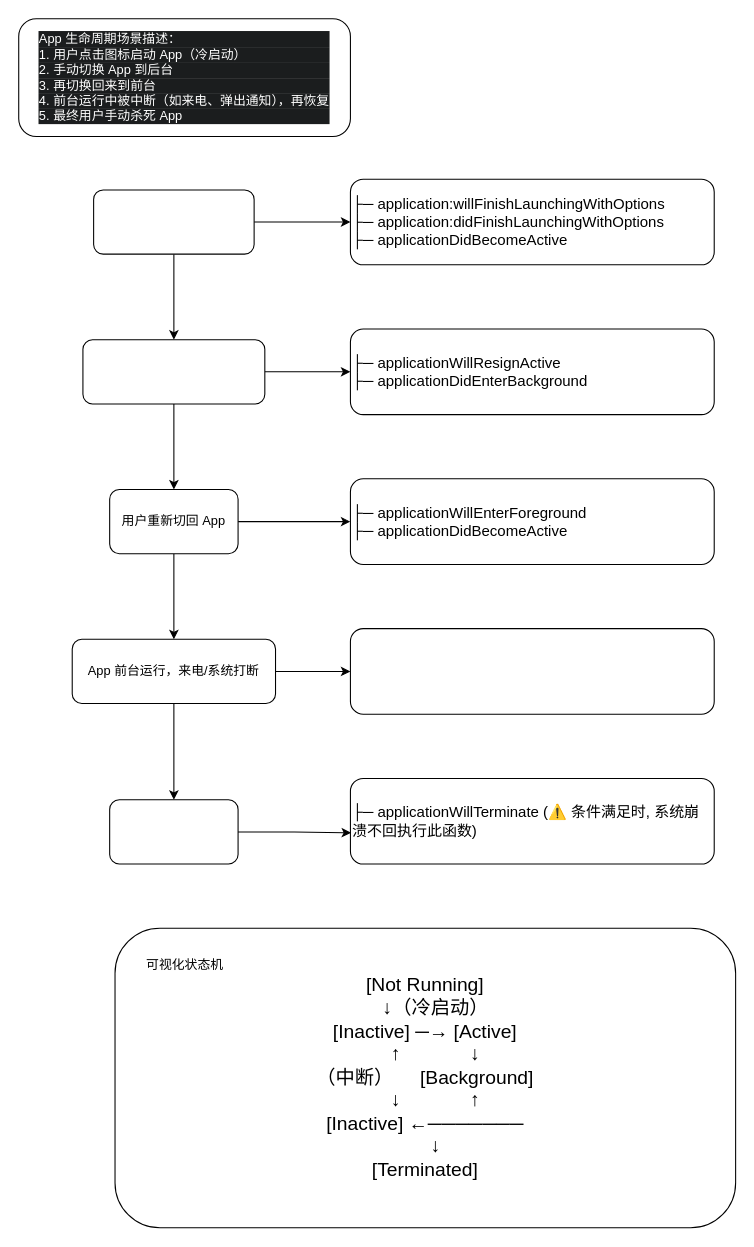
This 754x1247 diagram has some shape labels left out. The centre of each missing label's shape, as x and y in pixels:
"├─ applicationWillResignActive ├─ （通话结束等恢复后） ├─ applicationDidBecomeActive" belongs at point (531, 671).
"用户从后台杀死 App" belongs at point (173, 831).
"用户按 Home / 切换 App" belongs at point (173, 371).
"用户点击图标启动 App" belongs at point (173, 221).
